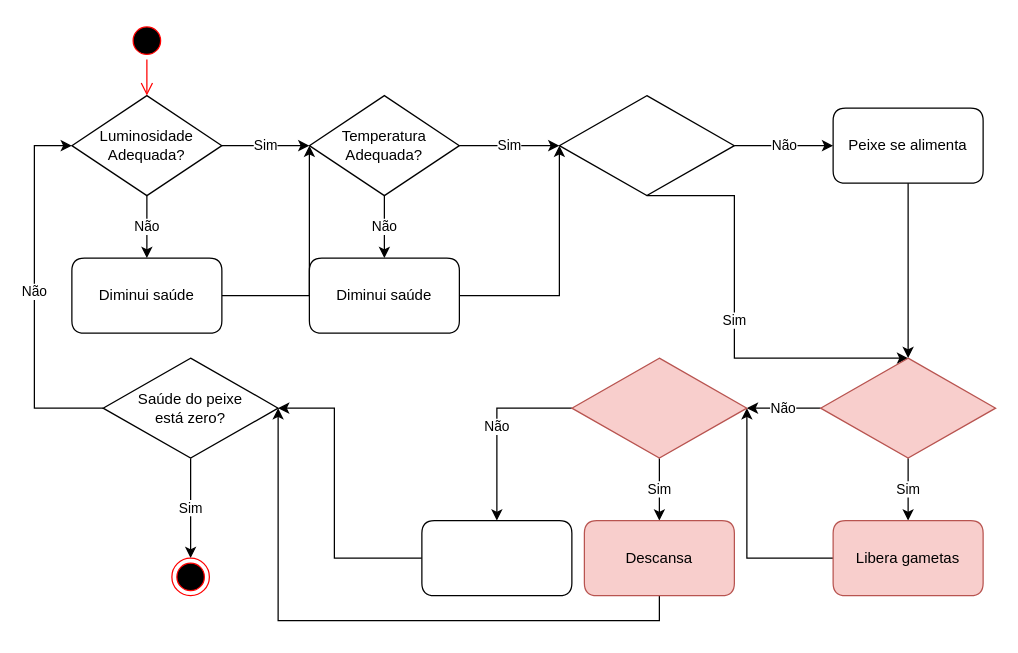
The diagram is 1018 pixels wide and 653 high, and some of its shapes have lost their labels. Each missing label, with the centre of its shape:
Condições de reprodução adequada?: (x=907, y=407)
Energia está baixa?: (x=659, y=407)
Saúde está baixa e há comida no aquário?: (x=646, y=145)
Se movimenta: (x=496, y=557)
